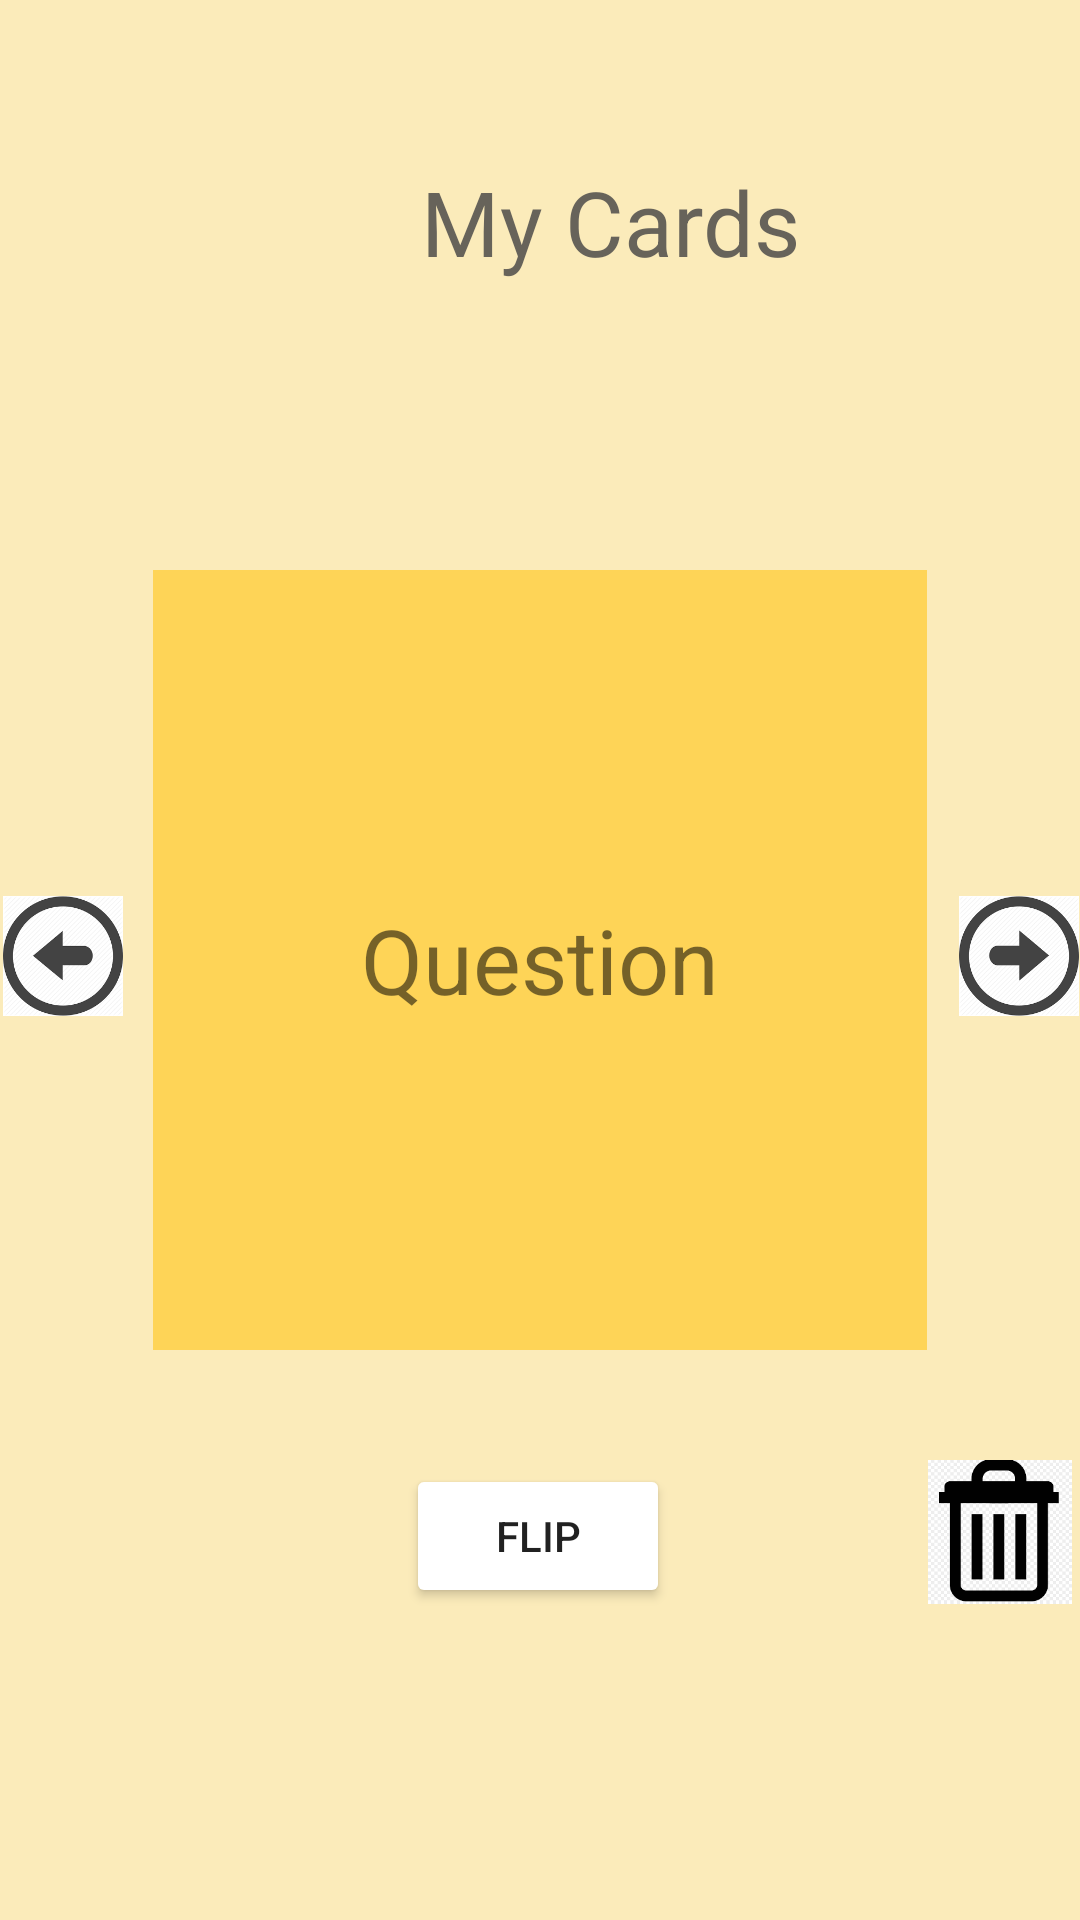

Icon bounding boxes for this 1080 x 1920 phone screenshot, format (x1, y1, x2, y2):
Delete Button: (928, 1460, 1072, 1604)
Next Button: (959, 896, 1079, 1016)
Previous Button: (3, 896, 123, 1016)
